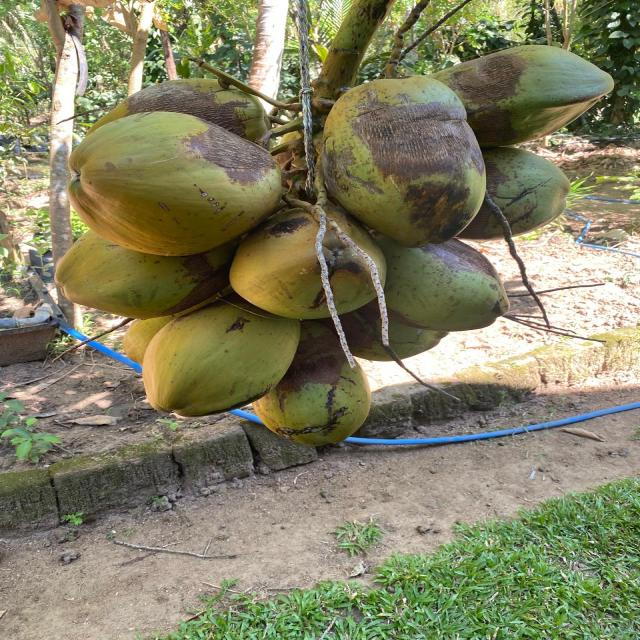coconut: (66, 111, 282, 252), (318, 75, 482, 244), (428, 44, 611, 146), (140, 300, 298, 416), (230, 205, 386, 320), (55, 227, 244, 319), (253, 324, 374, 442), (368, 232, 504, 332), (85, 78, 272, 146), (455, 147, 567, 241), (338, 313, 448, 364), (122, 313, 179, 366)
